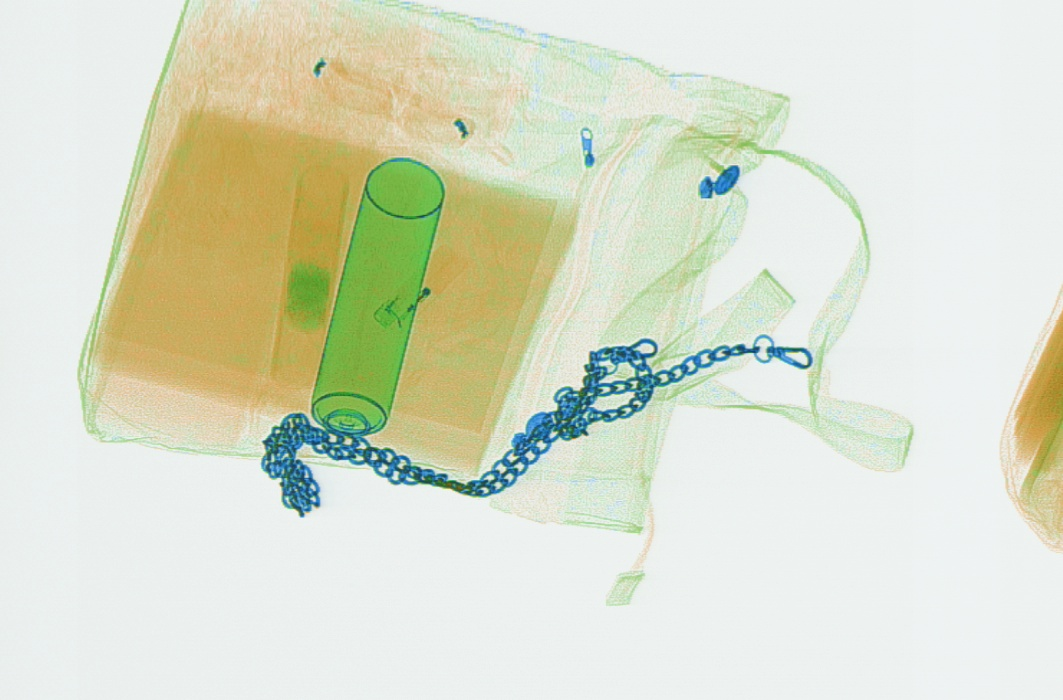firecrackers: (269, 162, 347, 389)
lighter: (372, 241, 471, 334)
pressure: (306, 153, 448, 436)
